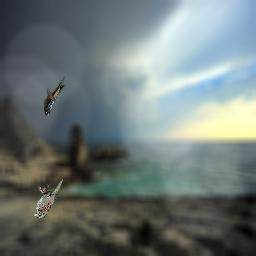Sparrow: (33, 179, 63, 219)
Swallow: (44, 76, 65, 116)
